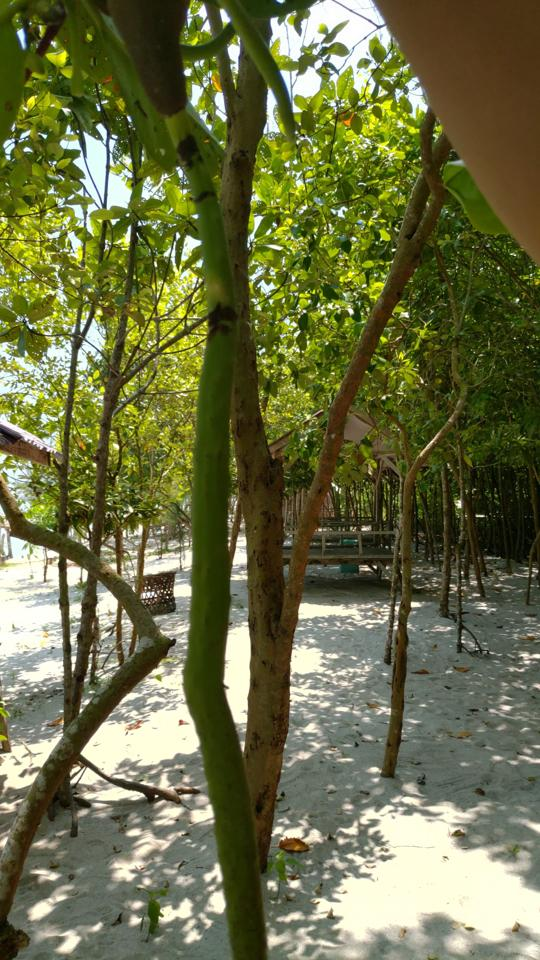setengah matang: (100, 1, 283, 955)
